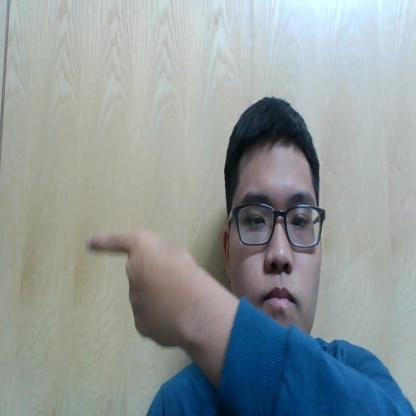right: (75, 212, 214, 370)
